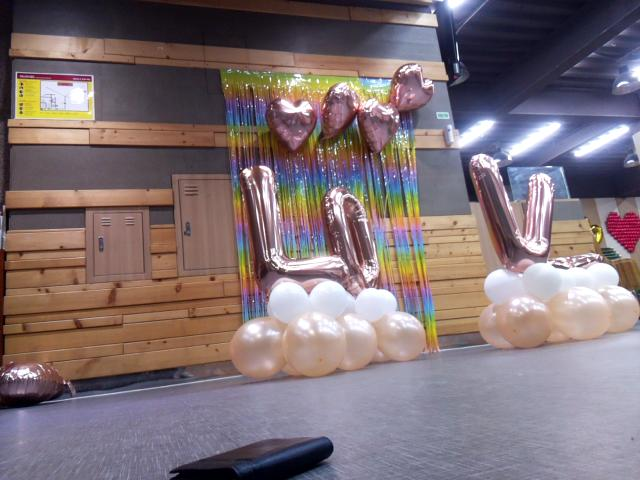wallet: (161, 423, 337, 480)
